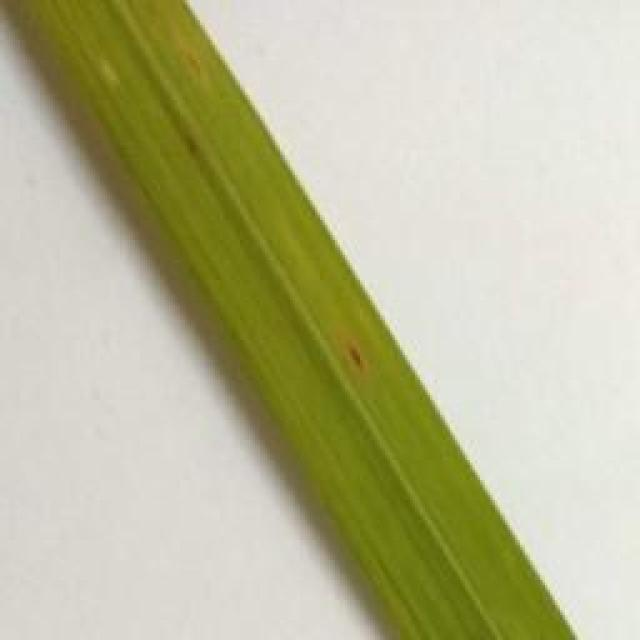Brown_Spot: (329, 336, 383, 392), (173, 122, 219, 166), (182, 40, 207, 91)
